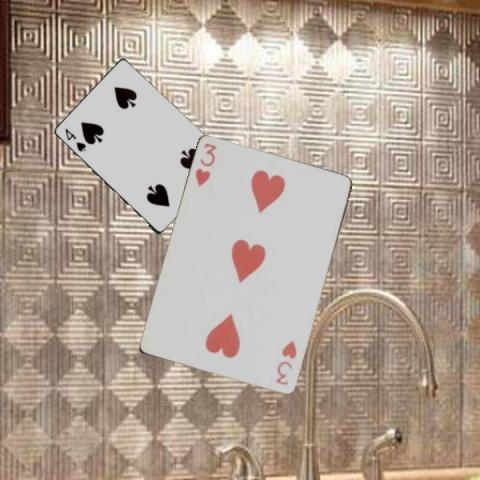3h: (272, 338, 299, 387), (193, 141, 218, 188)
4s: (61, 125, 88, 153)
